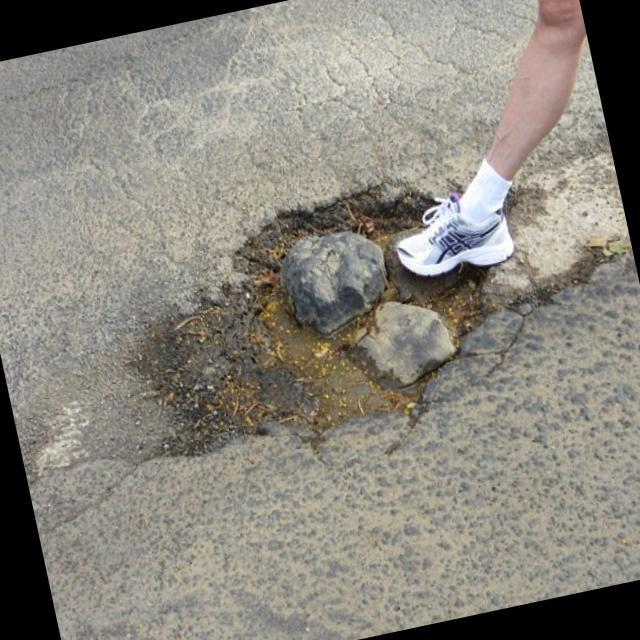Pothole: (95, 121, 586, 462)
